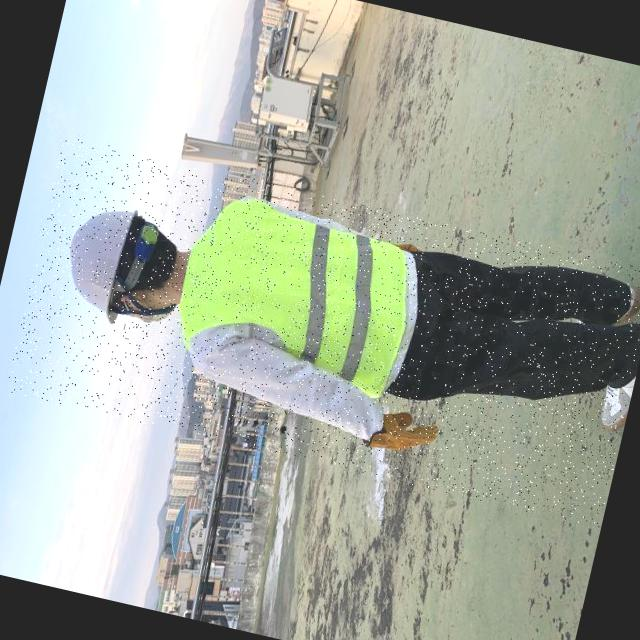boots: (587, 324, 640, 433)
gloves: (351, 380, 477, 474)
helmet: (47, 193, 146, 328)
vest: (168, 186, 427, 400)
